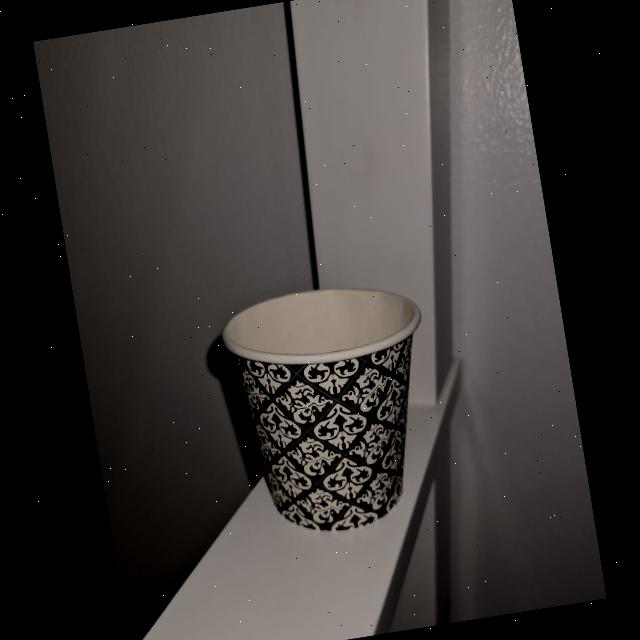trash: (213, 272, 451, 544)
